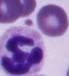N: (0, 27, 46, 75)
